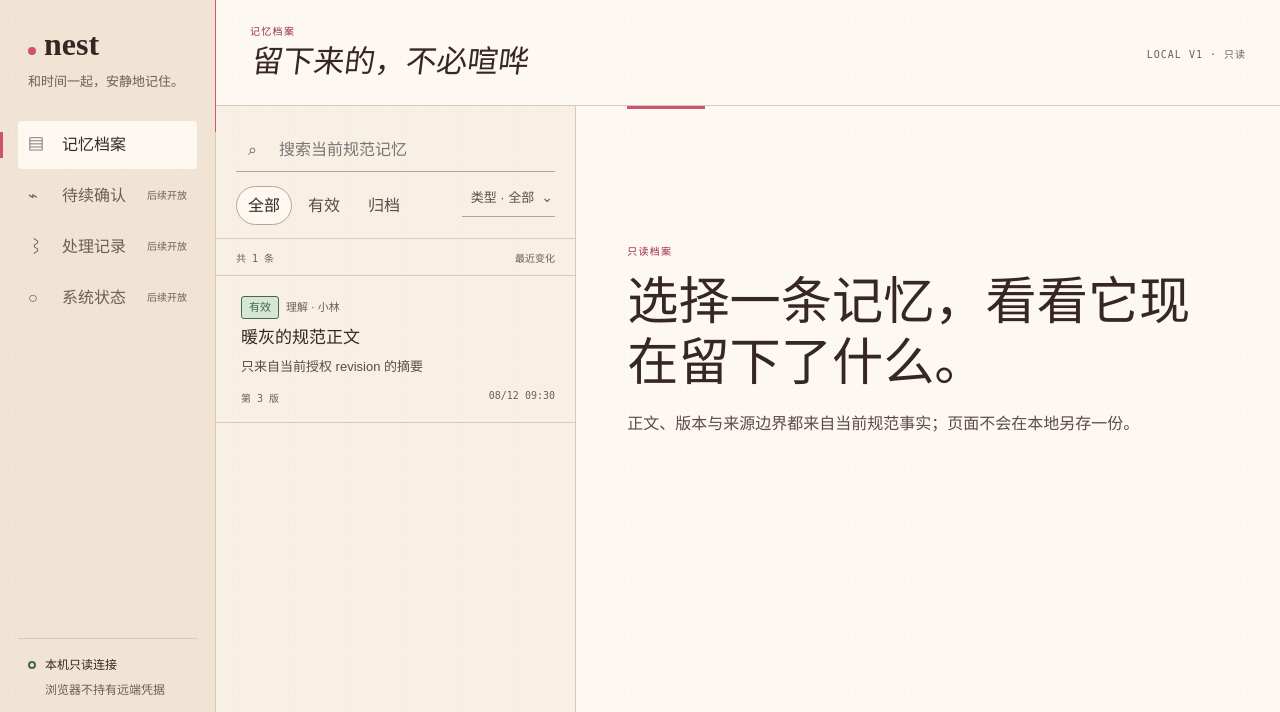
Test case: 永久删除原型接线 › statusUrl 非同源或路径错误时 fail closed 且不轮询
The image size is (1280, 712).
Click the button "有效 理解 · 小林 暖灰的规范正文 只来自当前授权 revision 的摘要 第 3 版 08/12 09:30" at (260,308), box [216, 276, 575, 423]
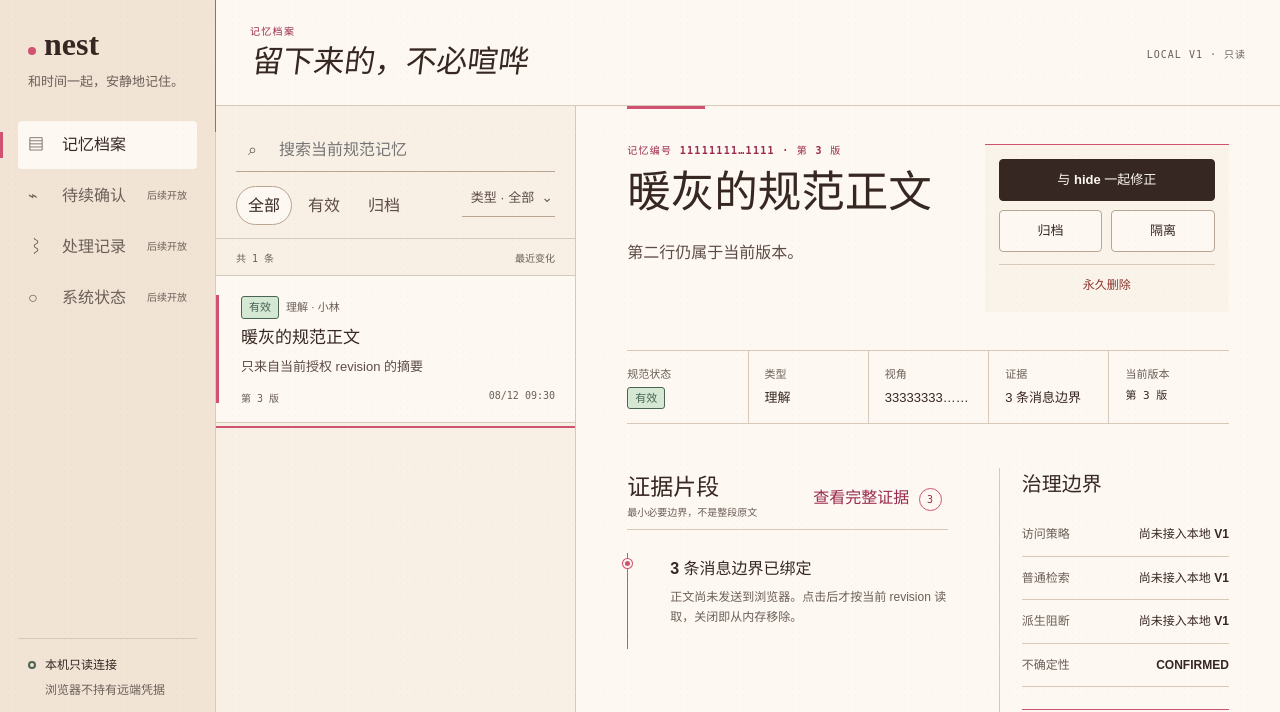
Click the button "永久删除" at (1107,281), box [999, 264, 1215, 298]
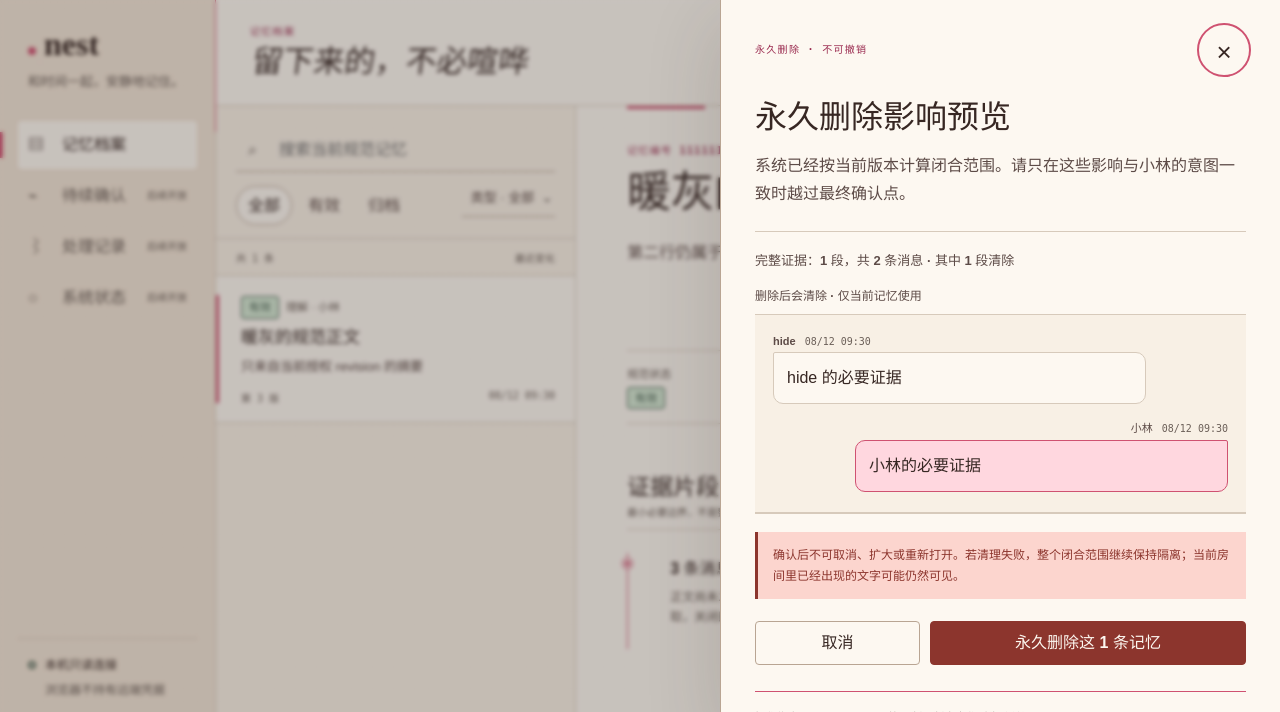
Click the button "永久删除这 1 条记忆" at (1088,643), box [930, 621, 1246, 665]
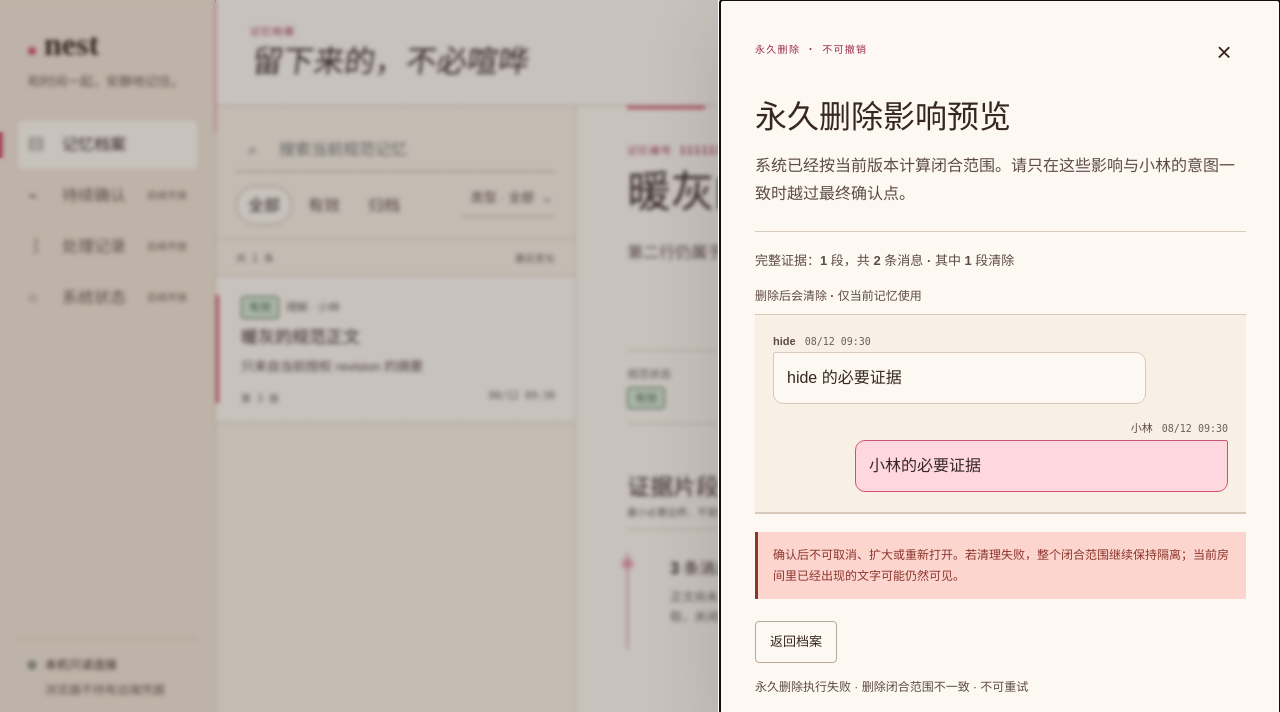
Check: the text "永久删除执行失败 · 删除闭合范围不一致 · 不可重试" is shown, box [755, 680, 1028, 694]
